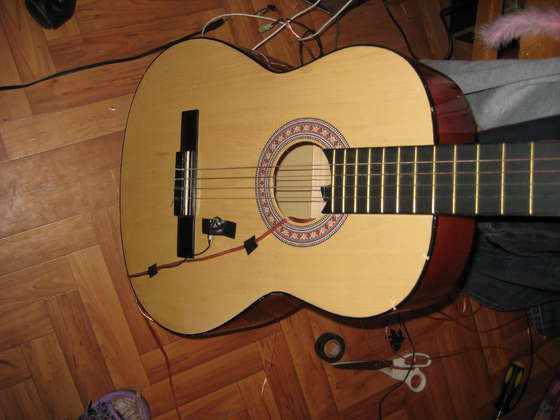guitar: (119, 38, 560, 342)
